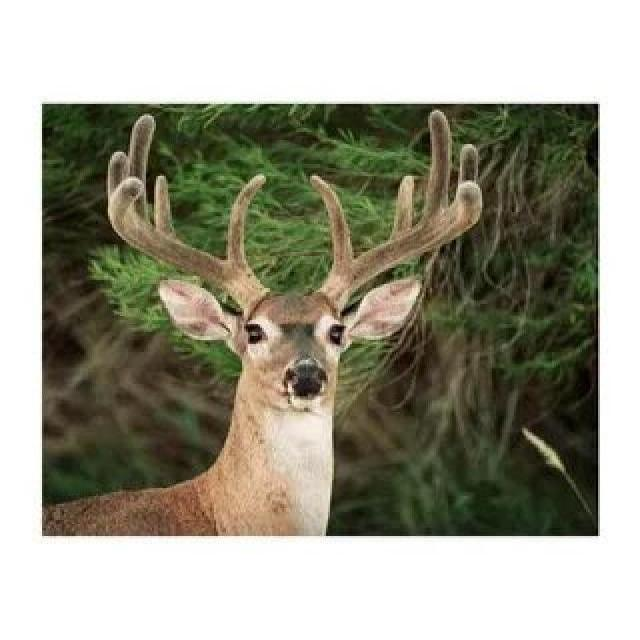deer: (57, 123, 552, 568)
